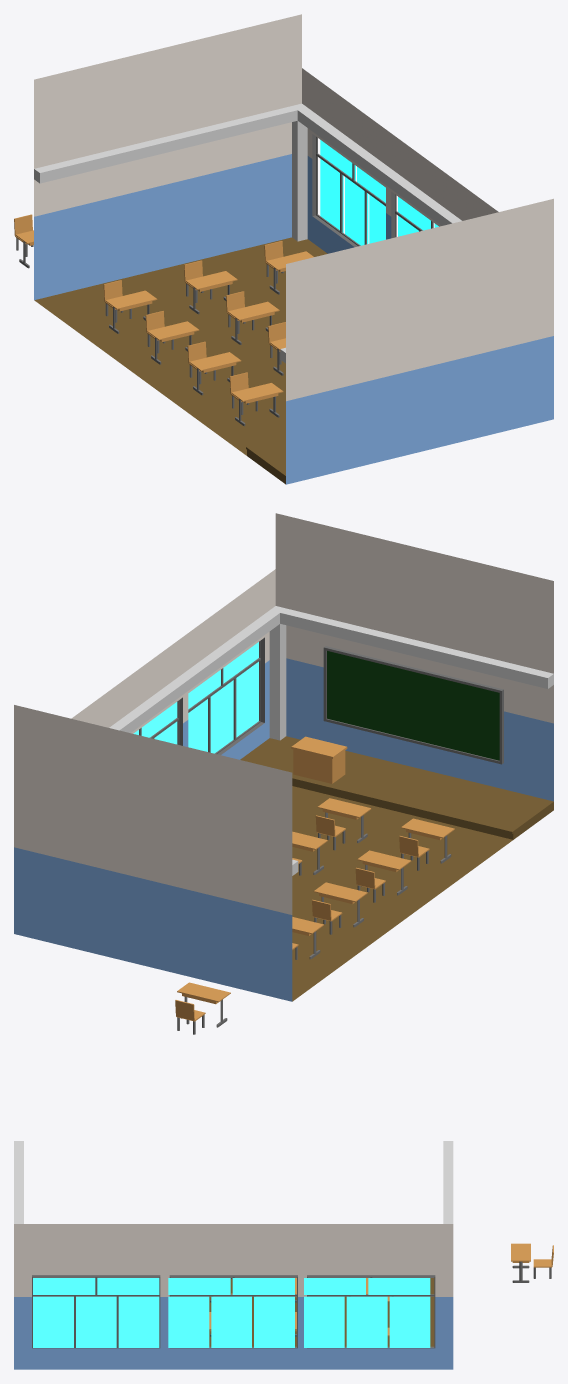
The model's file is class 2.fbx.
3 views of the same model, one above another, from view 1: azimuth 30°, elevation 25°; view 2: azimuth 150°, elevation 25°; view 3: azimuth 270°, elevation 25° (orthographic). The views are drawn at different scales.
Parts seen in each view (by area): view 1: wall2, wall1, Floor, wall_reinforce, table_student, wall_holes, wall_window_panels, wall_window_frame, table_student_single; view 2: wall1, wall2, Floor, wall_boad, wall_reinforce, wall_holes, table_student, wall_window_panels, table_main, wall_window_frame, table_student_single; view 3: wall_holes, wall_window_panels, wall_window_frame, wall_reinforce, Floor, table_student_single.
Boxes of the visible parts, left/top/right/bottom form: wall2: left=286, top=198, right=553, bottom=484; wall1: left=34, top=14, right=301, bottom=300; Floor: left=34, top=237, right=327, bottom=484; wall_reinforce: left=34, top=103, right=461, bottom=363; table_student: left=103, top=241, right=313, bottom=426; wall_holes: left=302, top=68, right=498, bottom=253; wall_window_panels: left=320, top=140, right=438, bottom=245; wall_window_frame: left=312, top=134, right=433, bottom=246; table_student_single: left=14, top=214, right=33, bottom=268; wall1: left=14, top=705, right=292, bottom=1001; wall2: left=275, top=513, right=553, bottom=801; Floor: left=240, top=736, right=553, bottom=1001; wall_boad: left=323, top=646, right=503, bottom=764; wall_reinforce: left=109, top=606, right=553, bottom=875; wall_holes: left=71, top=569, right=275, bottom=759; table_student: left=292, top=798, right=454, bottom=959; wall_window_panels: left=133, top=642, right=258, bottom=753; table_main: left=291, top=736, right=347, bottom=783; wall_window_frame: left=139, top=637, right=264, bottom=754; table_student_single: left=175, top=982, right=230, bottom=1034; wall_holes: left=14, top=1224, right=453, bottom=1369; wall_window_panels: left=33, top=1278, right=430, bottom=1347; wall_window_frame: left=32, top=1275, right=435, bottom=1348; wall_reinforce: left=14, top=1141, right=453, bottom=1223; Floor: left=209, top=1278, right=434, bottom=1346; table_student_single: left=511, top=1243, right=553, bottom=1282.
Bounding box in the file's own units: 815 × 630 × 1601.
